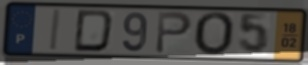5: (238, 12, 272, 58)
9: (121, 11, 149, 53)
D: (71, 8, 116, 54)
I: (48, 8, 64, 53)
O: (192, 11, 237, 58)
P: (154, 10, 195, 55)
